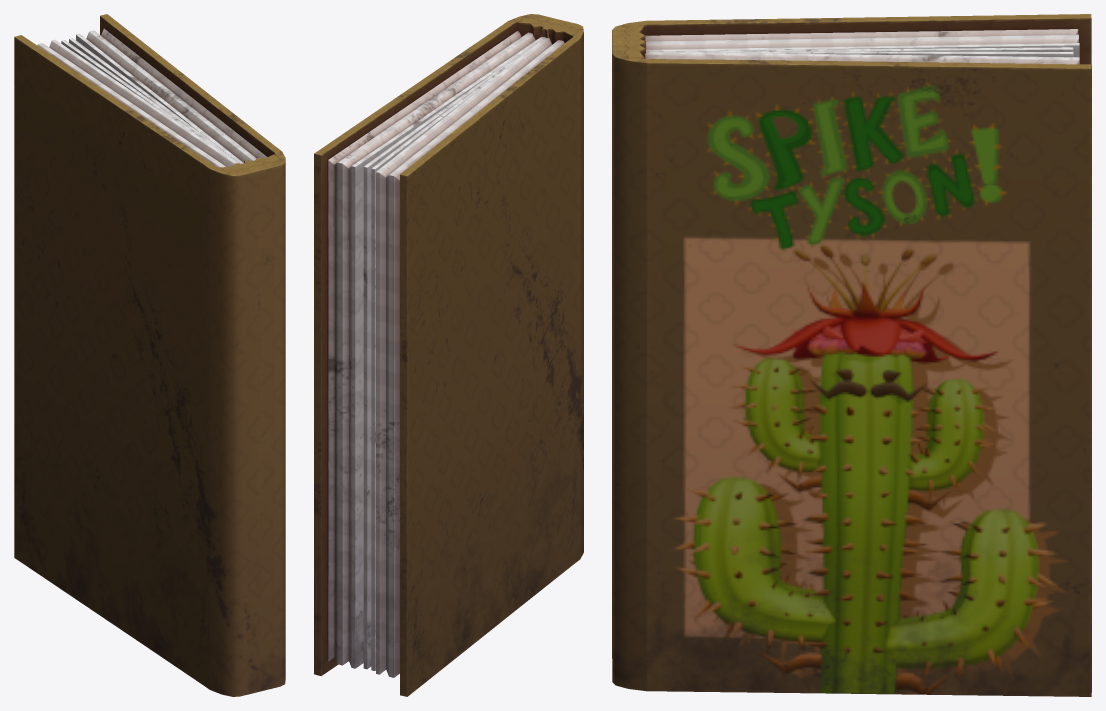
Rendered from Book1.fbx.
3 views of the same model, side by side, from view 1: azimuth 30°, elevation 25°; view 2: azimuth 150°, elevation 25°; view 3: azimuth 270°, elevation 25° (orthographic). The views are drawn at different scales.
Parts seen in each view (by area): view 1: libro1Detras, libro1Delante, Pagina1Libro1, Pagina2Libro1; view 2: libro1Detras, libro1Delante, Pagina1Libro1, Pagina2Libro1; view 3: libro1Delante, libro1Detras, Pagina1Libro1, Pagina2Libro1.
Boxes of the visible parts, x1,y1,x2,y2 form: libro1Detras: (14, 35, 260, 696); libro1Delante: (76, 14, 285, 691); Pagina1Libro1: (69, 38, 238, 162); Pagina2Libro1: (61, 40, 235, 160); libro1Detras: (376, 19, 583, 696); libro1Delante: (314, 14, 557, 675); Pagina1Libro1: (363, 56, 518, 669); Pagina2Libro1: (371, 43, 536, 670); libro1Delante: (612, 40, 1091, 696); libro1Detras: (612, 14, 1091, 658); Pagina1Libro1: (664, 51, 1073, 57); Pagina2Libro1: (669, 47, 1073, 52).
Size of the model in its own units: 17.02 by 90.92 by 62.92.
2 materials, 2 textured.
